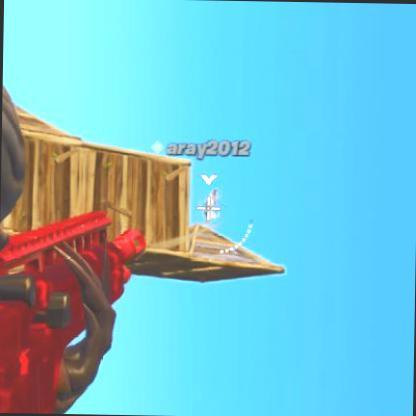person: (206, 187, 223, 235)
